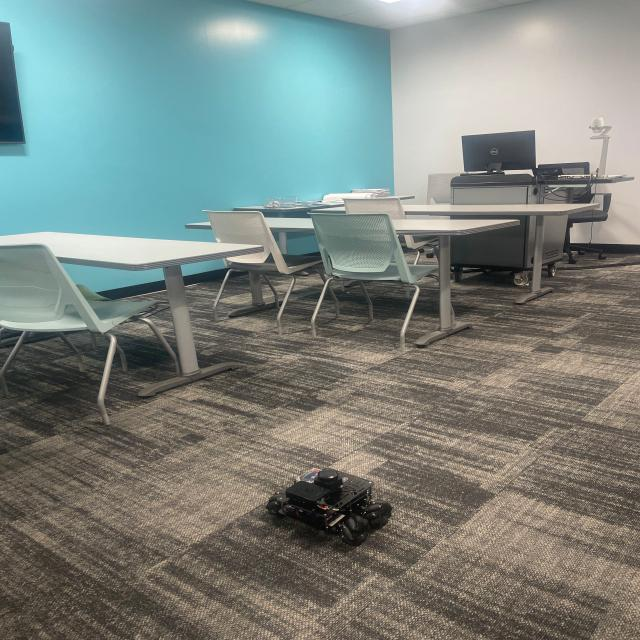ArduinoCar3: (262, 460, 396, 551)
